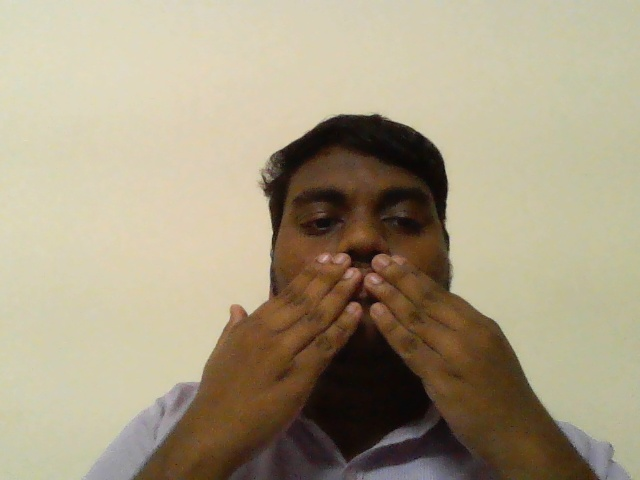Thank you: (184, 246, 539, 435)
